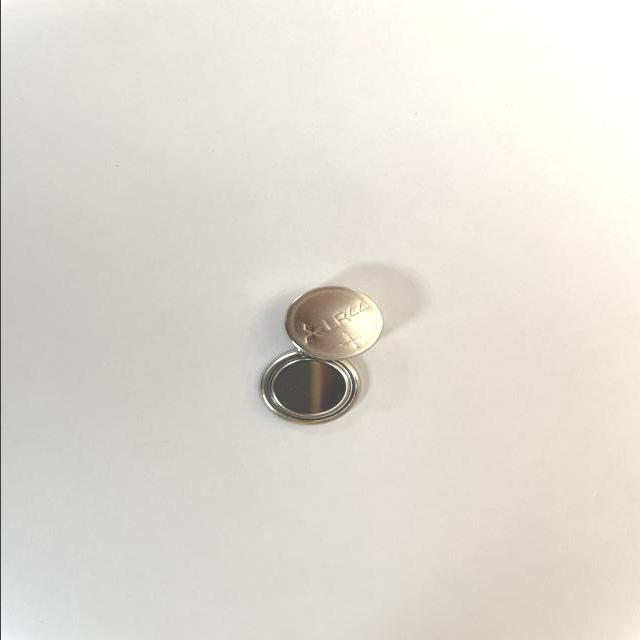COIN: (258, 350, 361, 426), (286, 286, 384, 359)
